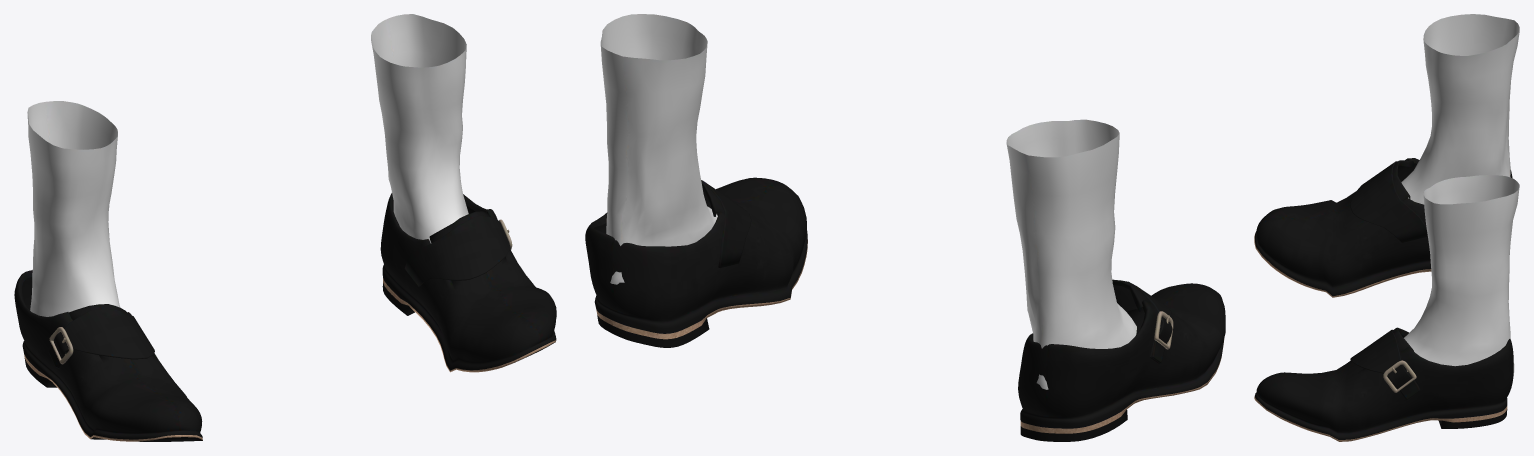
File: mindfront-shoes-monk-strap-male.glb
3 views of the same model, side by side, from view 1: azimuth 30°, elevation 25°; view 2: azimuth 150°, elevation 25°; view 3: azimuth 270°, elevation 25° (orthographic). The views are drawn at different scales.
Visible parts, largest first — view 1: Human.mindfront_shoes_monk_strap_male; view 2: Human.mindfront_shoes_monk_strap_male; view 3: Human.mindfront_shoes_monk_strap_male.
Boxes of the visible parts, left/top/right/bottom form: Human.mindfront_shoes_monk_strap_male: left=14, top=14, right=556, bottom=441; Human.mindfront_shoes_monk_strap_male: left=585, top=14, right=1225, bottom=441; Human.mindfront_shoes_monk_strap_male: left=1254, top=14, right=1519, bottom=441.
Bounding box in the file's own units: 0.444 × 0.25 × 0.2408.
1 material, 1 textured.
